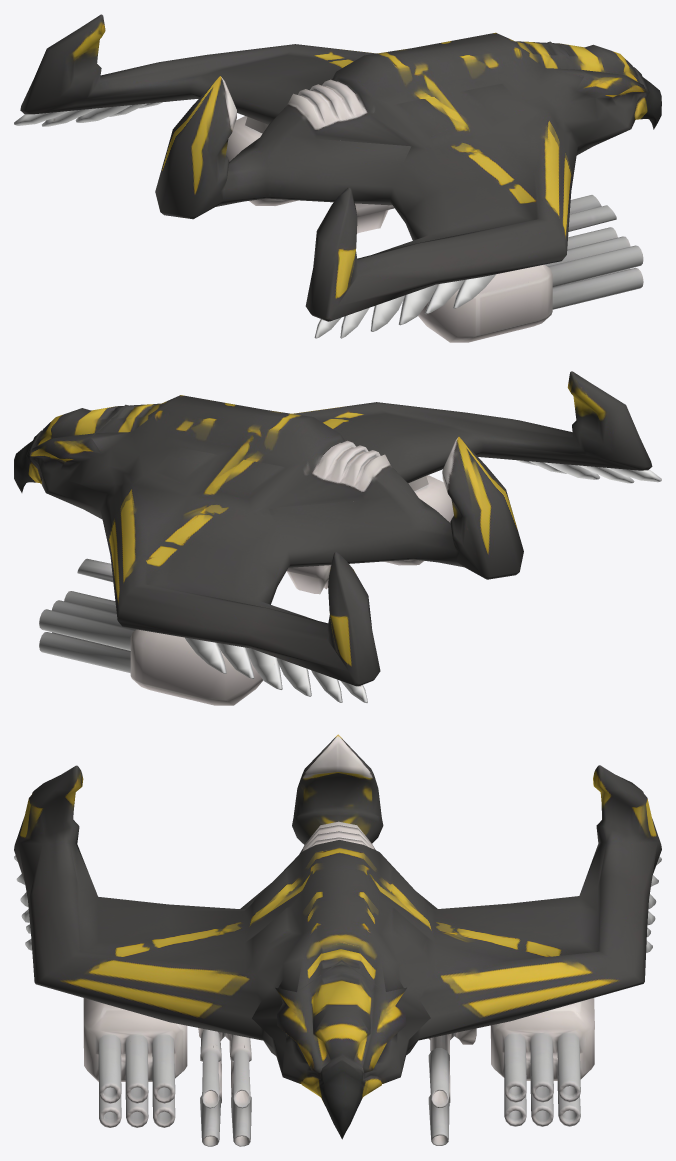
Rendered from skai_thunderhead_v3.glb.
3 renders of one model, top to bottom at view 1: azimuth 30°, elevation 25°; view 2: azimuth 150°, elevation 25°; view 3: azimuth 270°, elevation 25°, orthographic. The views are drawn at different scales.
Visible parts, largest first — view 1: tripo_node_ca4ed768-6acb-4f2e-8000-8cbb01821603; view 2: tripo_node_ca4ed768-6acb-4f2e-8000-8cbb01821603; view 3: tripo_node_ca4ed768-6acb-4f2e-8000-8cbb01821603.
Boxes of the visible parts, x1,y1,x2,y2 form: tripo_node_ca4ed768-6acb-4f2e-8000-8cbb01821603: (14, 14, 661, 342); tripo_node_ca4ed768-6acb-4f2e-8000-8cbb01821603: (14, 371, 661, 705); tripo_node_ca4ed768-6acb-4f2e-8000-8cbb01821603: (14, 734, 661, 1146).
Bounding box in the file's own units: 0.9712 × 0.4409 × 0.9995.
1 material, 1 textured.
